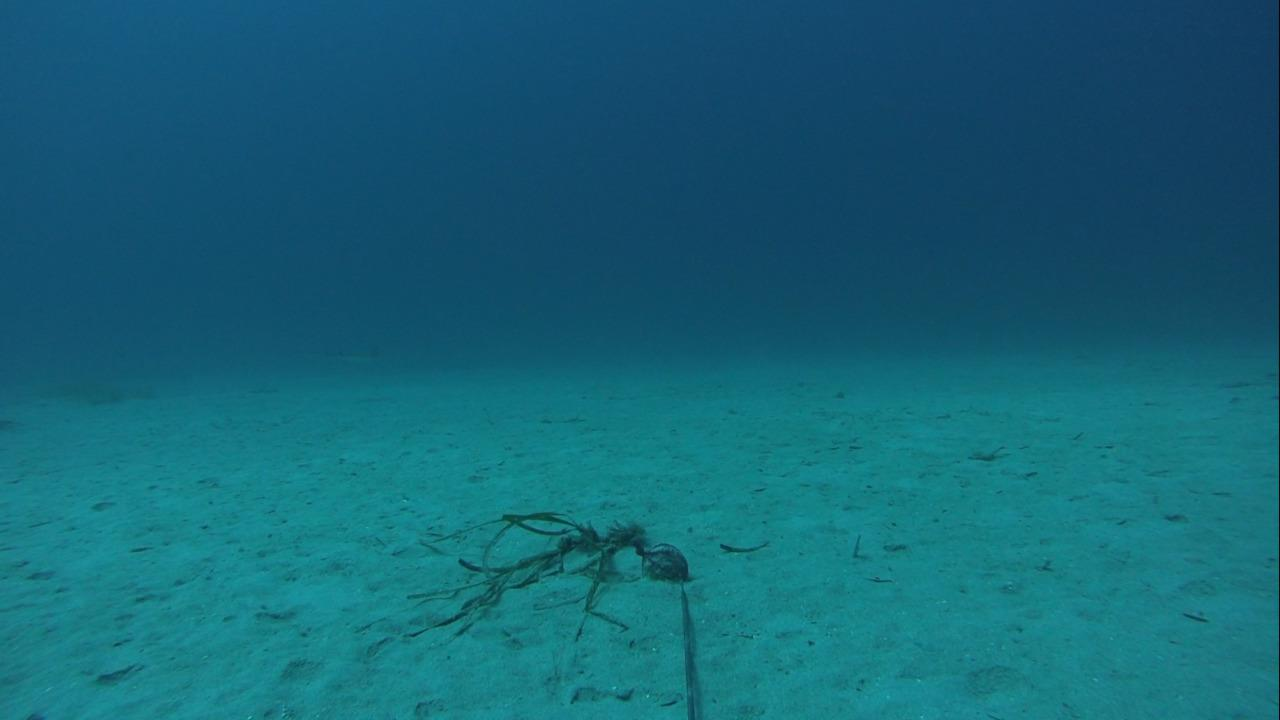myliobatis: (231, 328, 391, 385)
